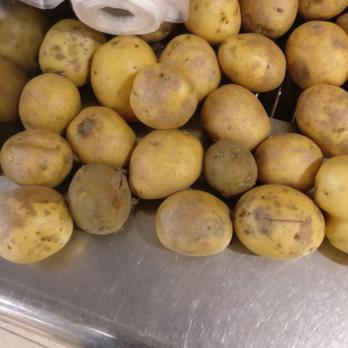Solid potato: (0, 33, 348, 264), (186, 1, 348, 33), (0, 2, 44, 40)
